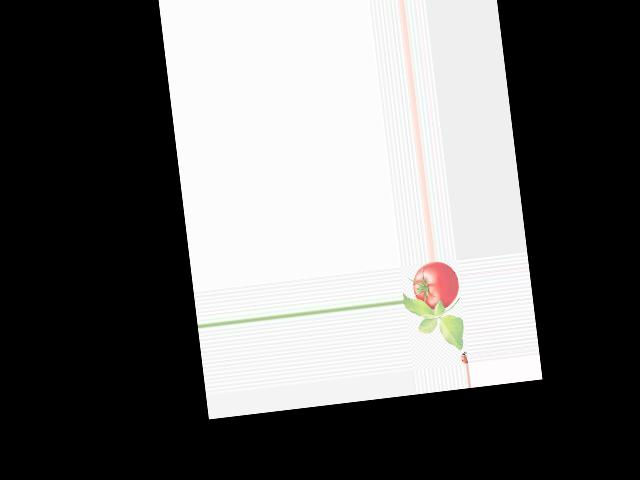tomato: (410, 259, 461, 312)
